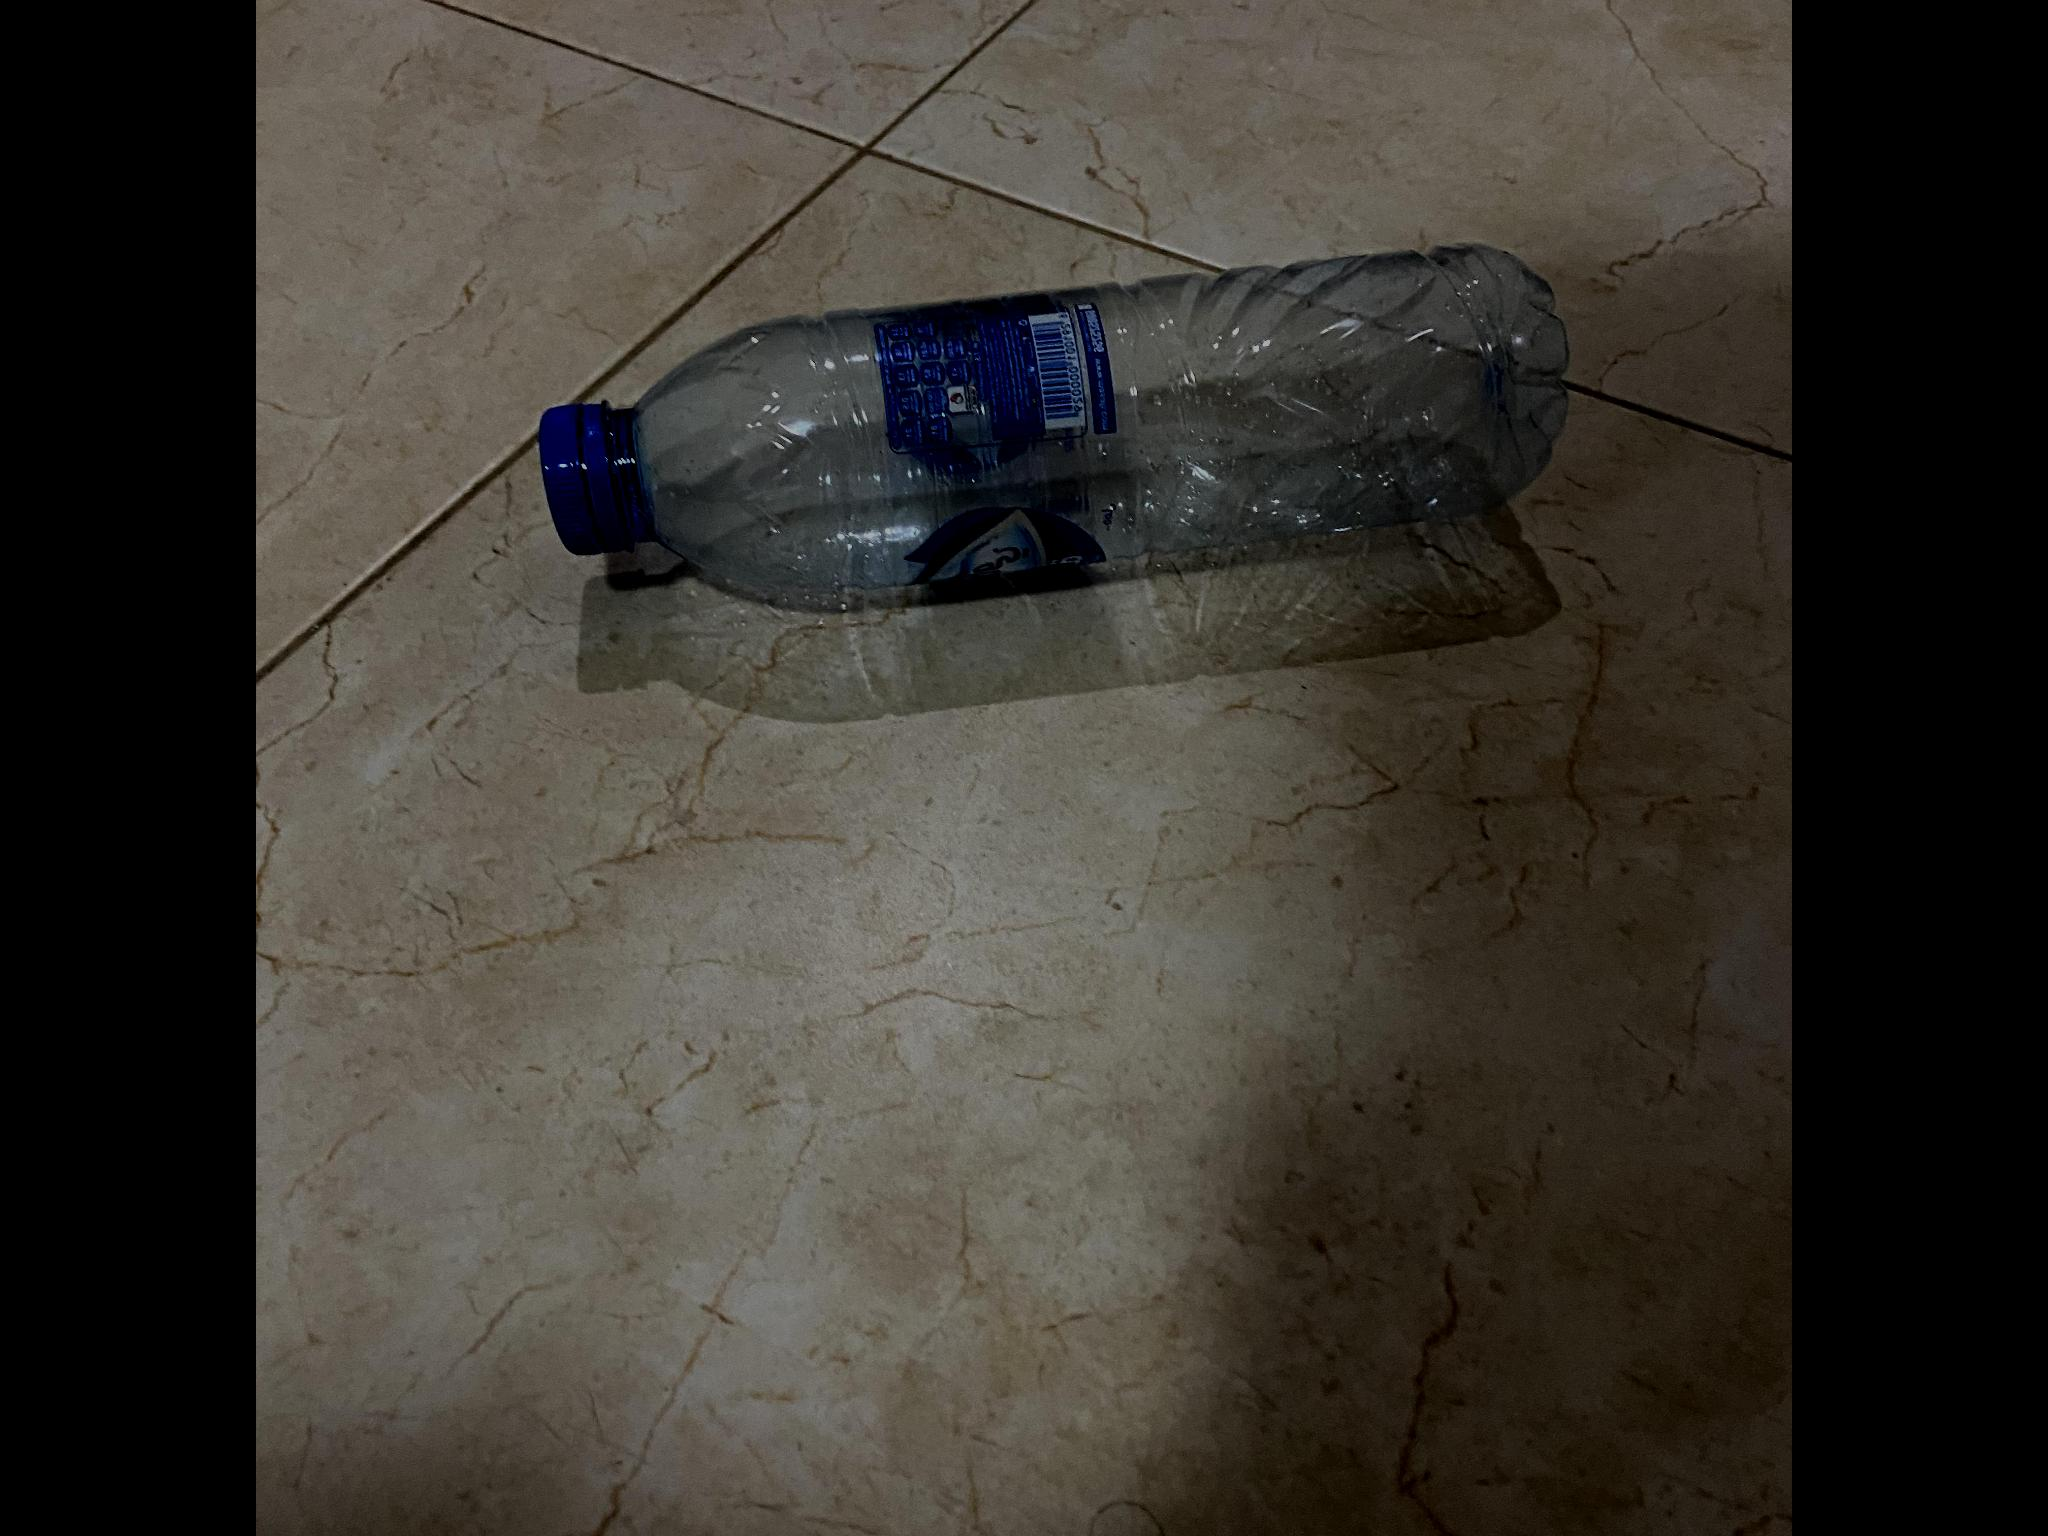bottle: (530, 189, 1592, 624)
